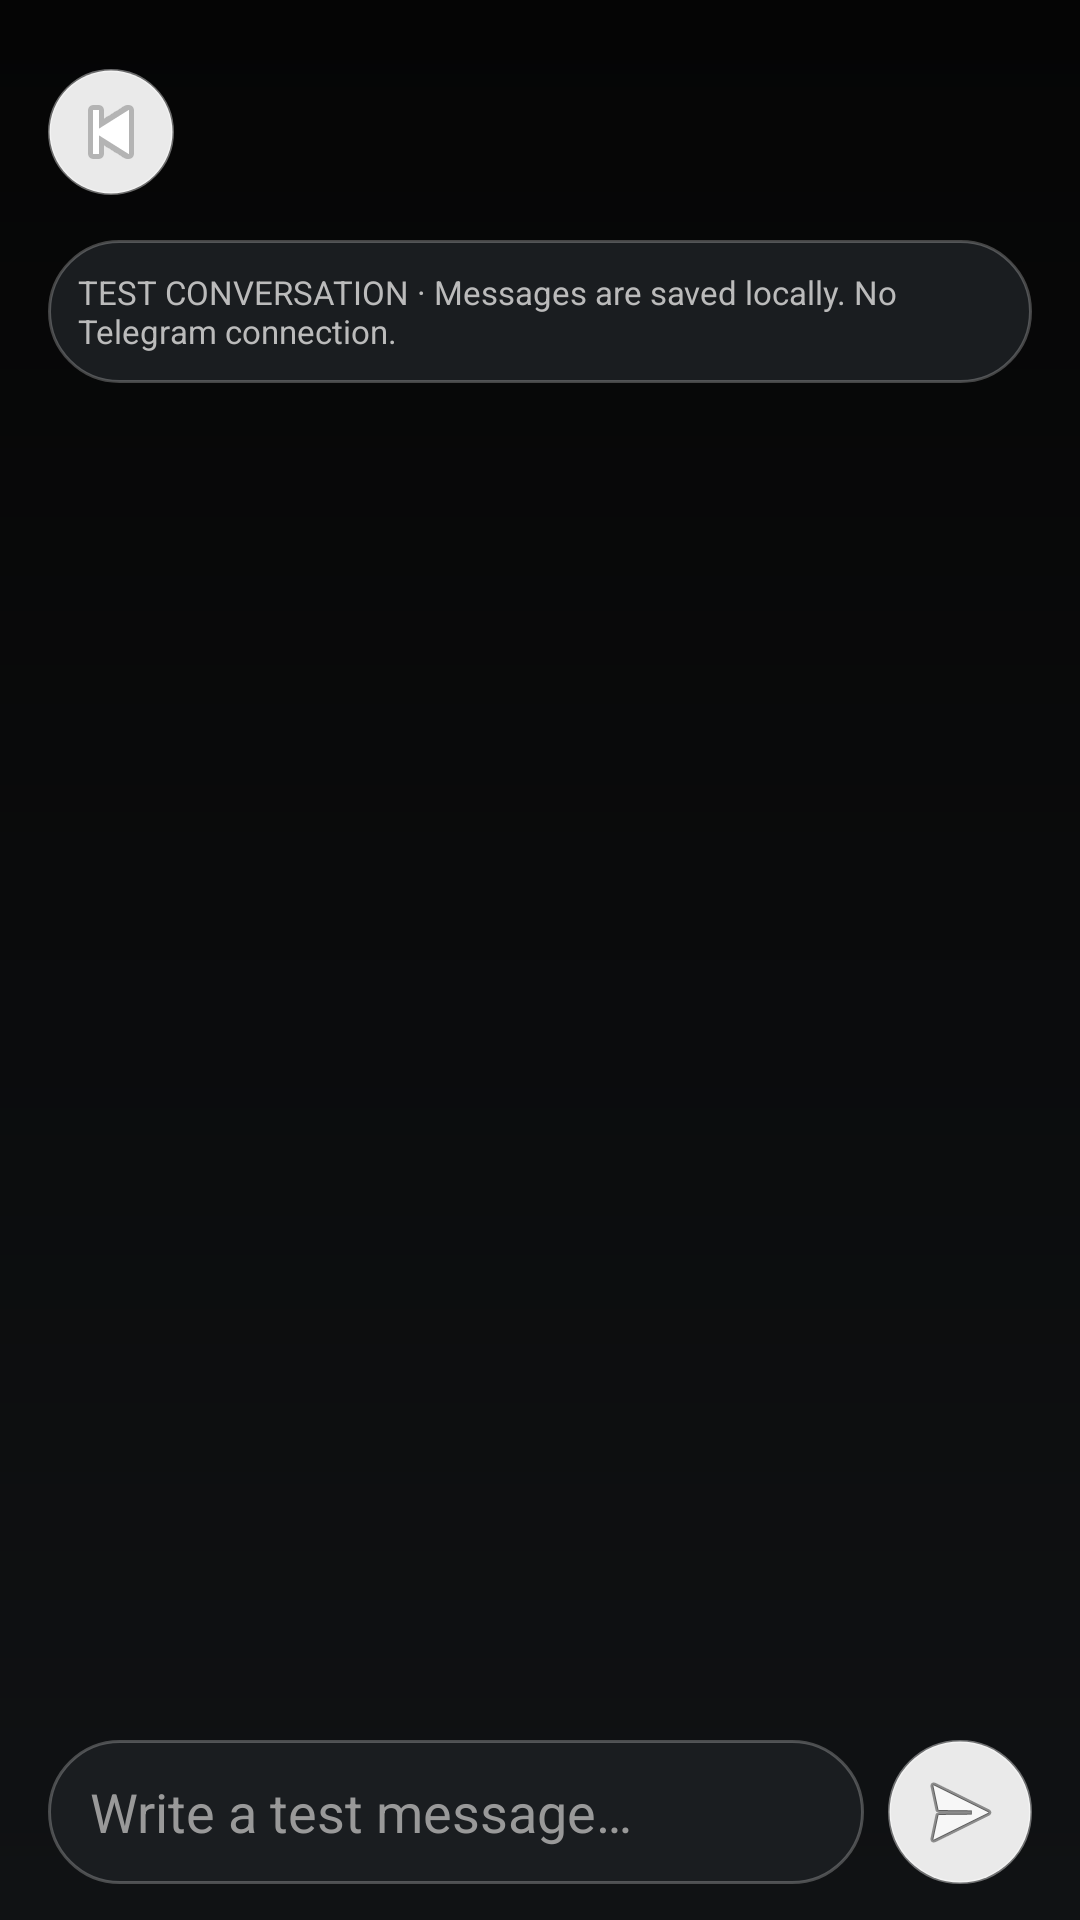

Screen size 1080x1920. Icon name, then its box in pixels as (x1=x1, y1=y1, x2=x2, y2=y2):
Back: (x1=48, y1=69, x2=174, y2=195)
Send test message: (x1=888, y1=1740, x2=1032, y2=1884)
